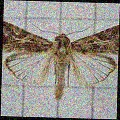Spodoptera litura: (2, 20, 118, 100)
